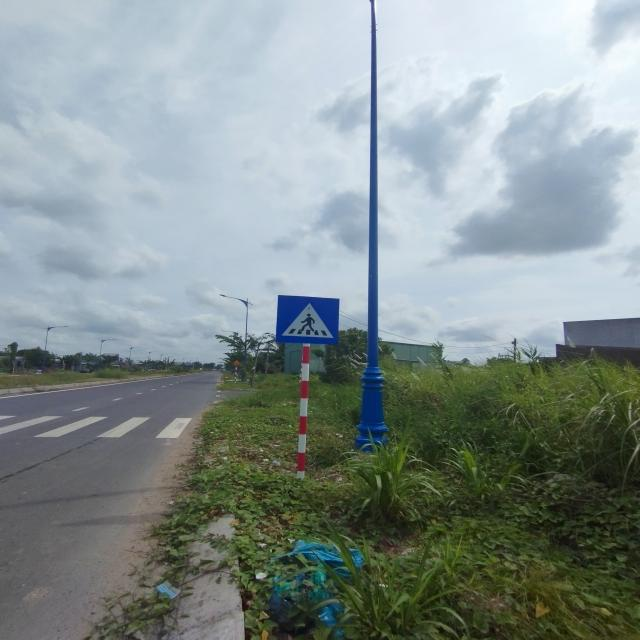Giao_Nhau_Duong_Uu_Tien: (276, 294, 340, 344)
